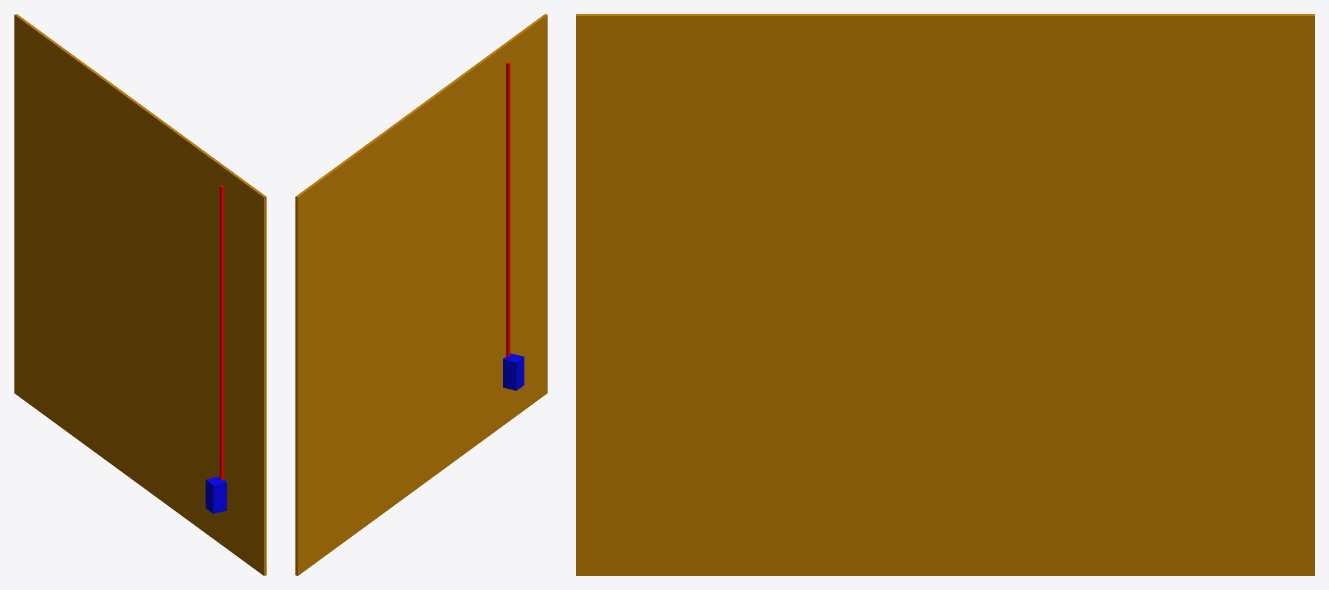
The model's file is nil_link_mesh.dae.
The picture shows the model from 3 angles, left to right: view 1: azimuth 30°, elevation 25°; view 2: azimuth 150°, elevation 25°; view 3: azimuth 270°, elevation 25°; orthographic projection. The views are drawn at different scales.
Visible parts, largest first — view 1: nil_link (×3); view 2: nil_link (×3); view 3: nil_link.
Boxes of the visible parts, left/top/right/bottom form: nil_link (×3): left=14, top=14, right=266, bottom=575; nil_link (×3): left=295, top=14, right=547, bottom=575; nil_link: left=576, top=14, right=1314, bottom=575.
Size of the model in its own units: 0.06 by 1.33 by 1.59.
